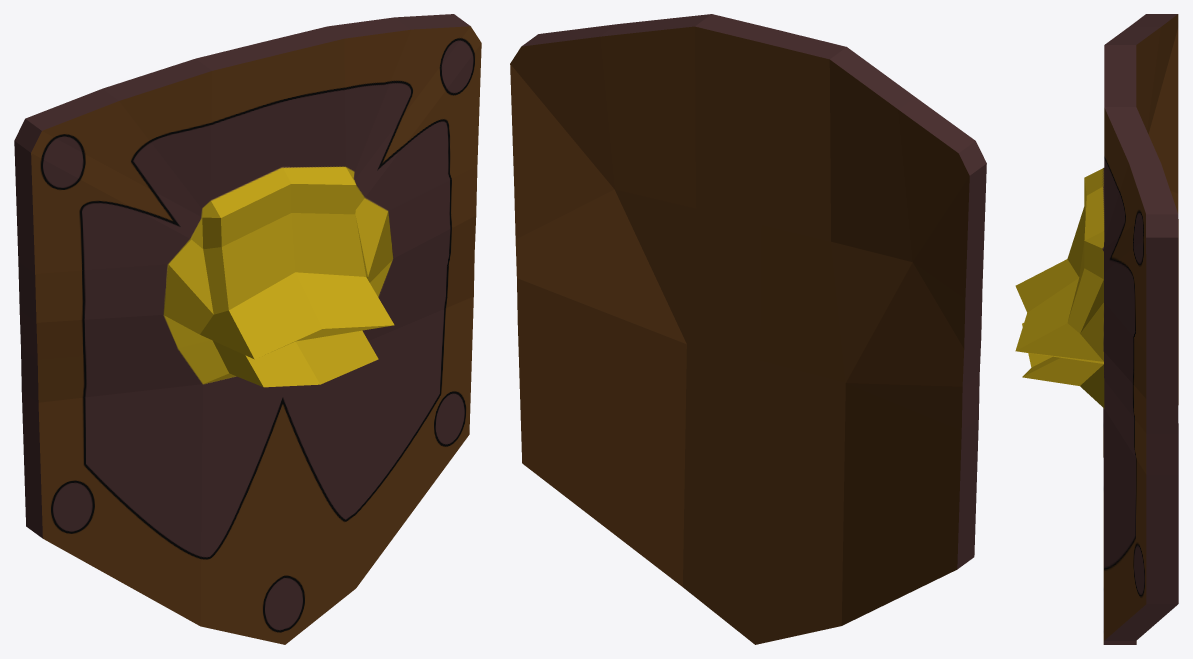
Rendered from monkian-shield.fbx.
3 views of the same model, side by side, from view 1: azimuth 30°, elevation 25°; view 2: azimuth 150°, elevation 25°; view 3: azimuth 270°, elevation 25° (orthographic). The views are drawn at different scales.
Parts seen in each view (by area): view 1: Shield; view 2: Shield; view 3: Shield.
Boxes of the visible parts, x1,y1,x2,y2 form: Shield: (14, 14, 481, 644); Shield: (510, 14, 986, 644); Shield: (1015, 14, 1178, 644).
Size of the model in its own units: 237 by 297 by 77.71.
Materials: 1 (1 with a texture image).
